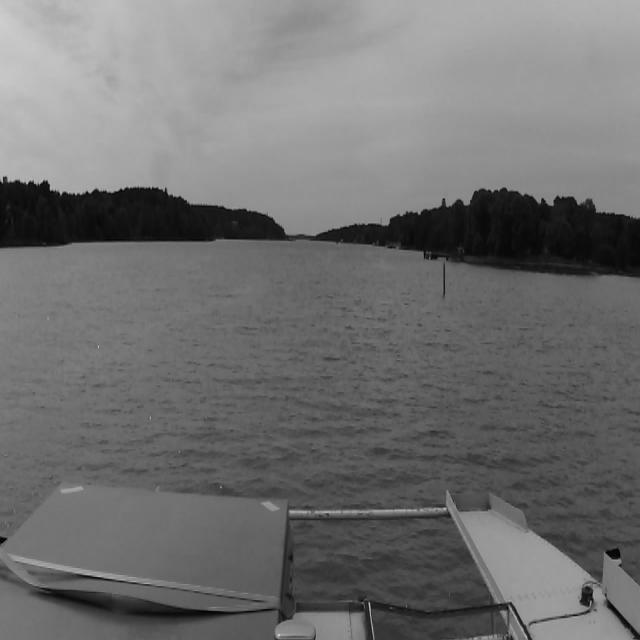buoy: (441, 261, 447, 296)
